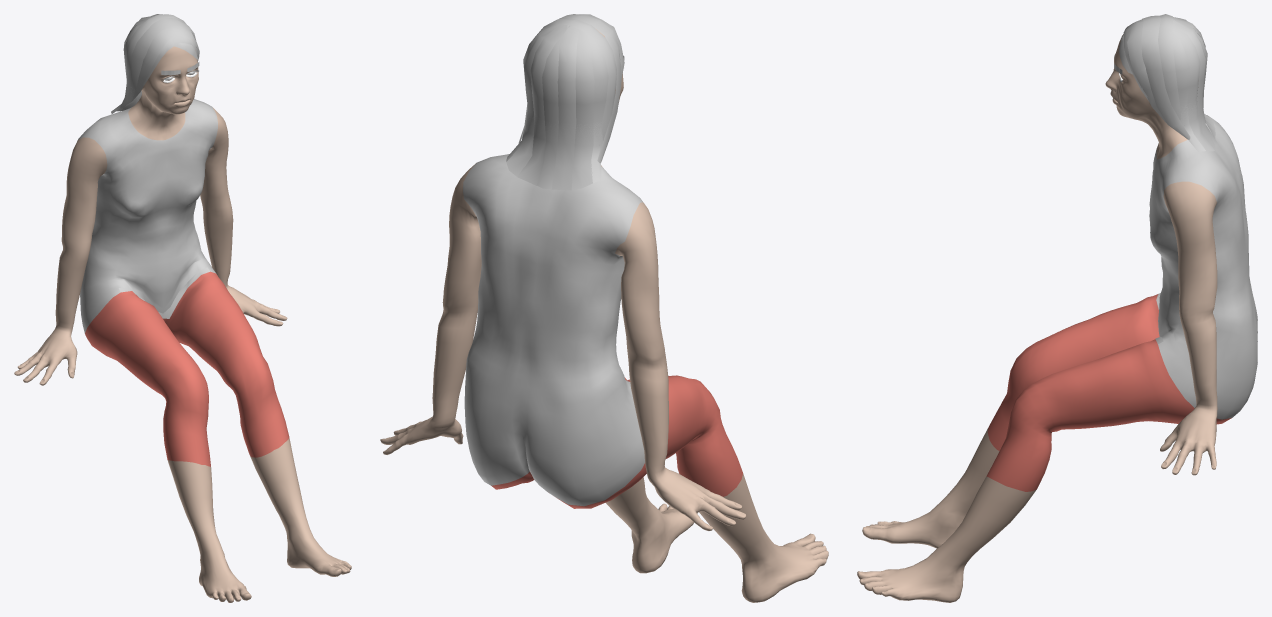
The model's file is MittyLM.fbx.
3 renders of one model, left to right at view 1: azimuth 30°, elevation 25°; view 2: azimuth 150°, elevation 25°; view 3: azimuth 270°, elevation 25°, orthographic. The views are drawn at different scales.
Parts seen in each view (by area): view 1: MittyLM; view 2: MittyLM; view 3: MittyLM.
Boxes of the visible parts, bbox=[...] form: MittyLM: bbox=[14, 14, 351, 602]; MittyLM: bbox=[380, 14, 828, 602]; MittyLM: bbox=[857, 14, 1257, 602].
Bounding box in the file's own units: 0.5785 × 1.02 × 0.6645.
